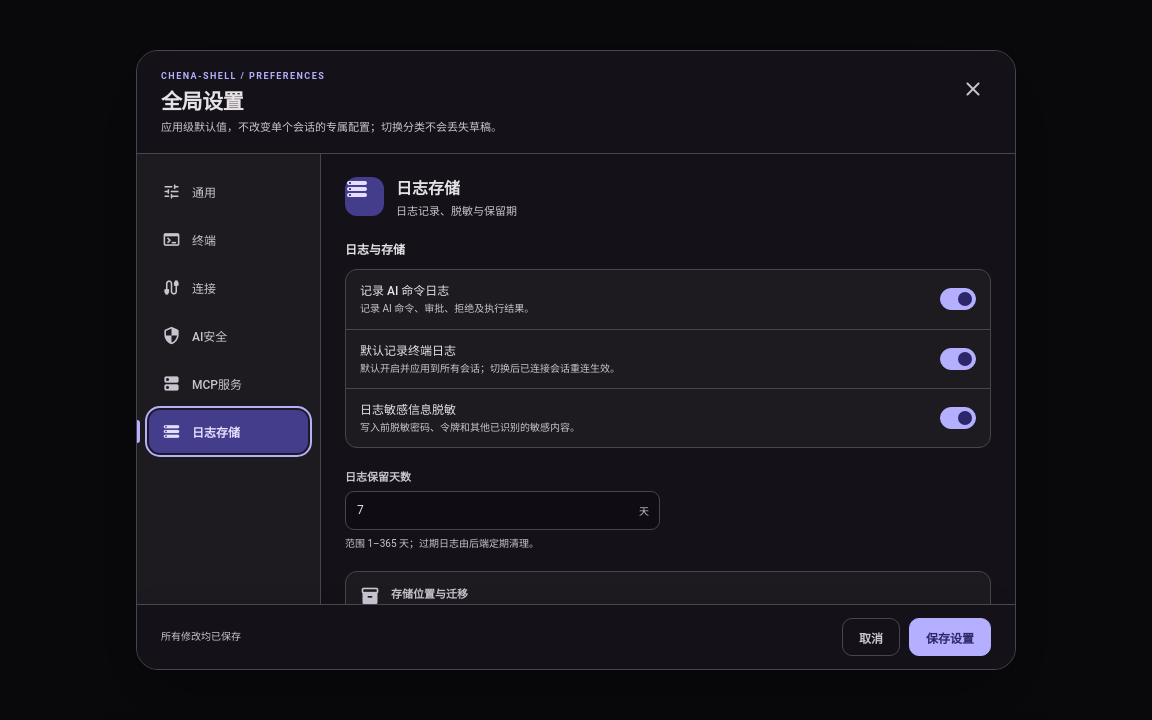
Test: SettingsDialog 输入校验 › 阻止 logs 分类的越界数值
Replace the text in the number field labelled "日志保留天数" with "366" at point(502, 510), box x1=345 y1=490 x2=660 y2=530
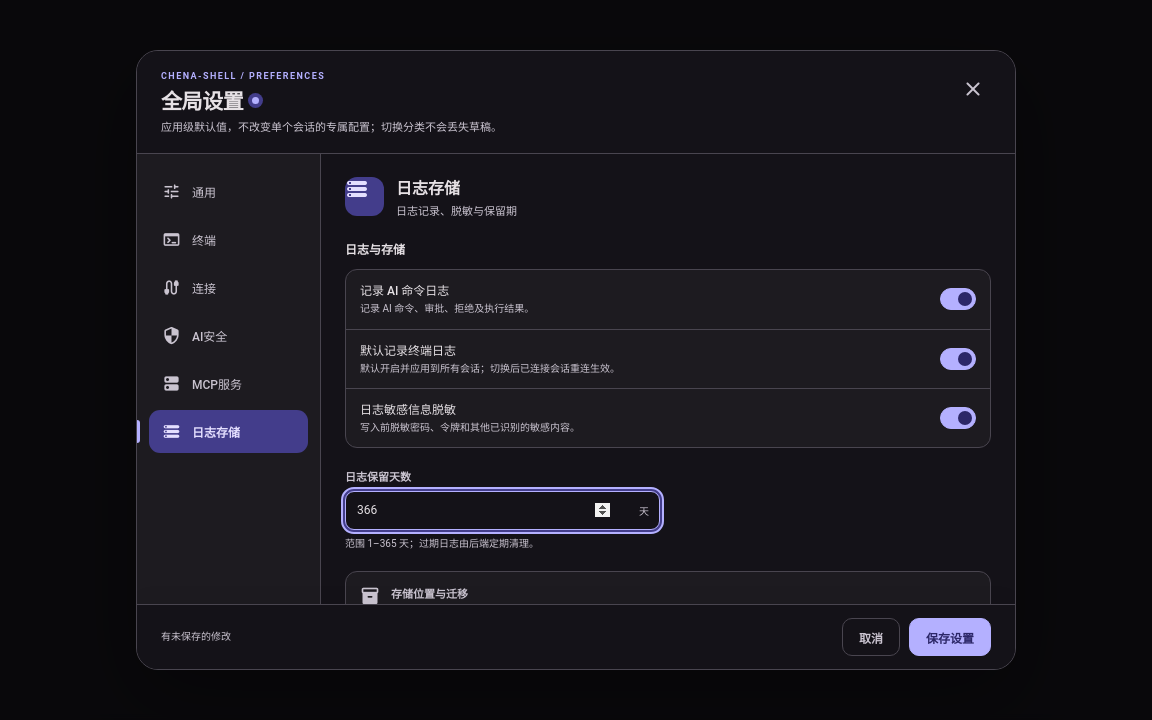
Click the button "保存设置" at point(950, 637), box x1=909 y1=618 x2=991 y2=656
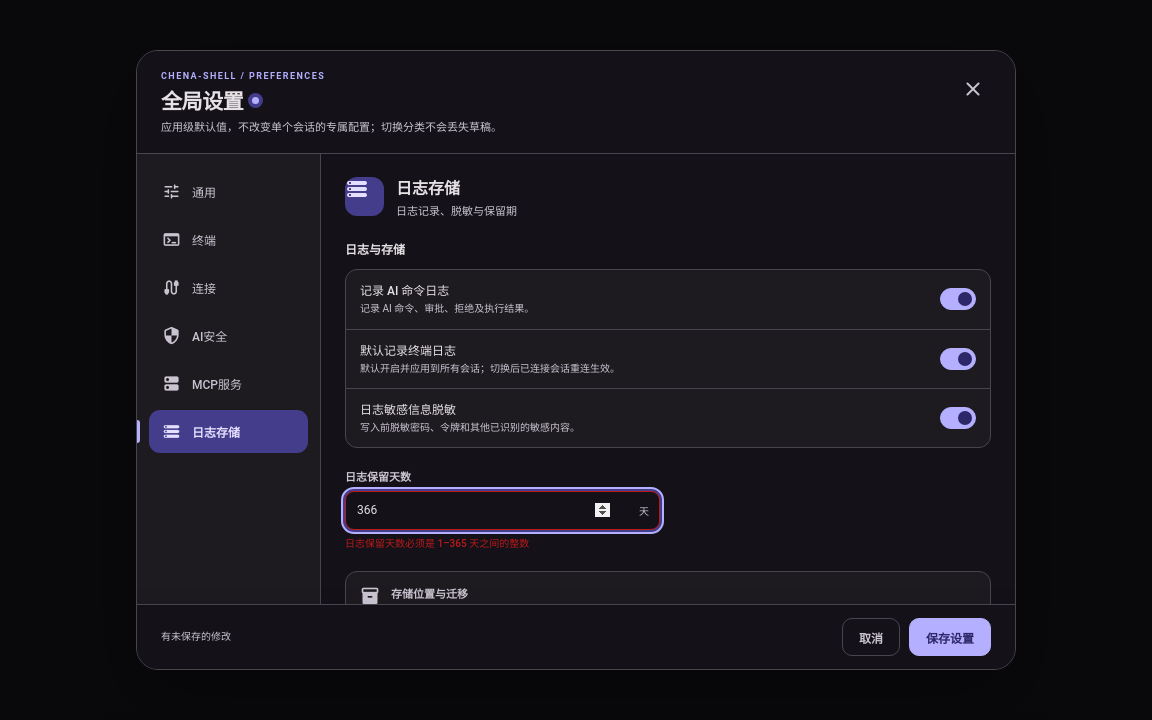
Expected: the message shows "日志保留天数必须是 1–365", x1=345 y1=538 x2=529 y2=548
